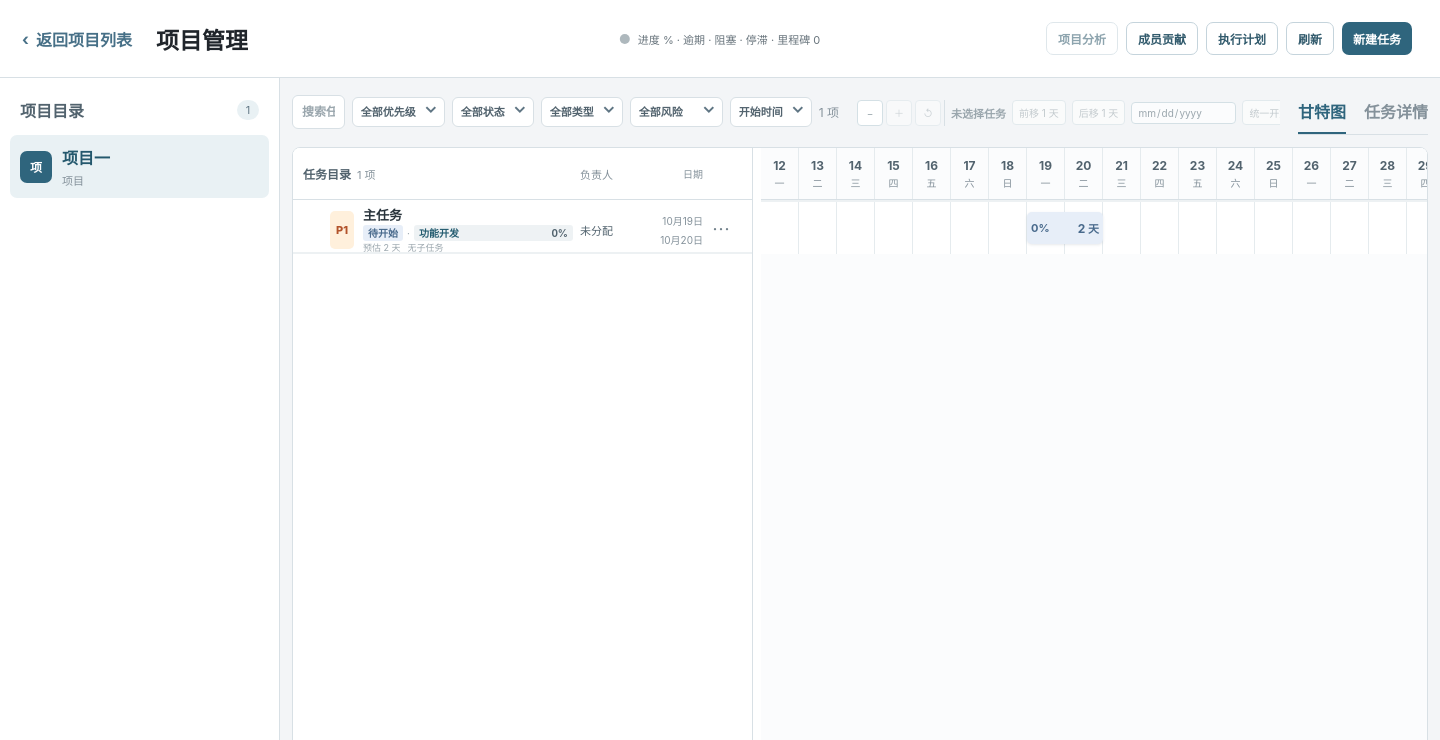
web app › opens the child-task form from a task row menu
The width and height of the screenshot is (1440, 740).
Check: the button named "任务操作 主任务" is shown, box [706, 216, 734, 244]
Right-click the button with aria-label "主任务 待开始 · feature · P1" at (467, 230), box [357, 204, 577, 257]
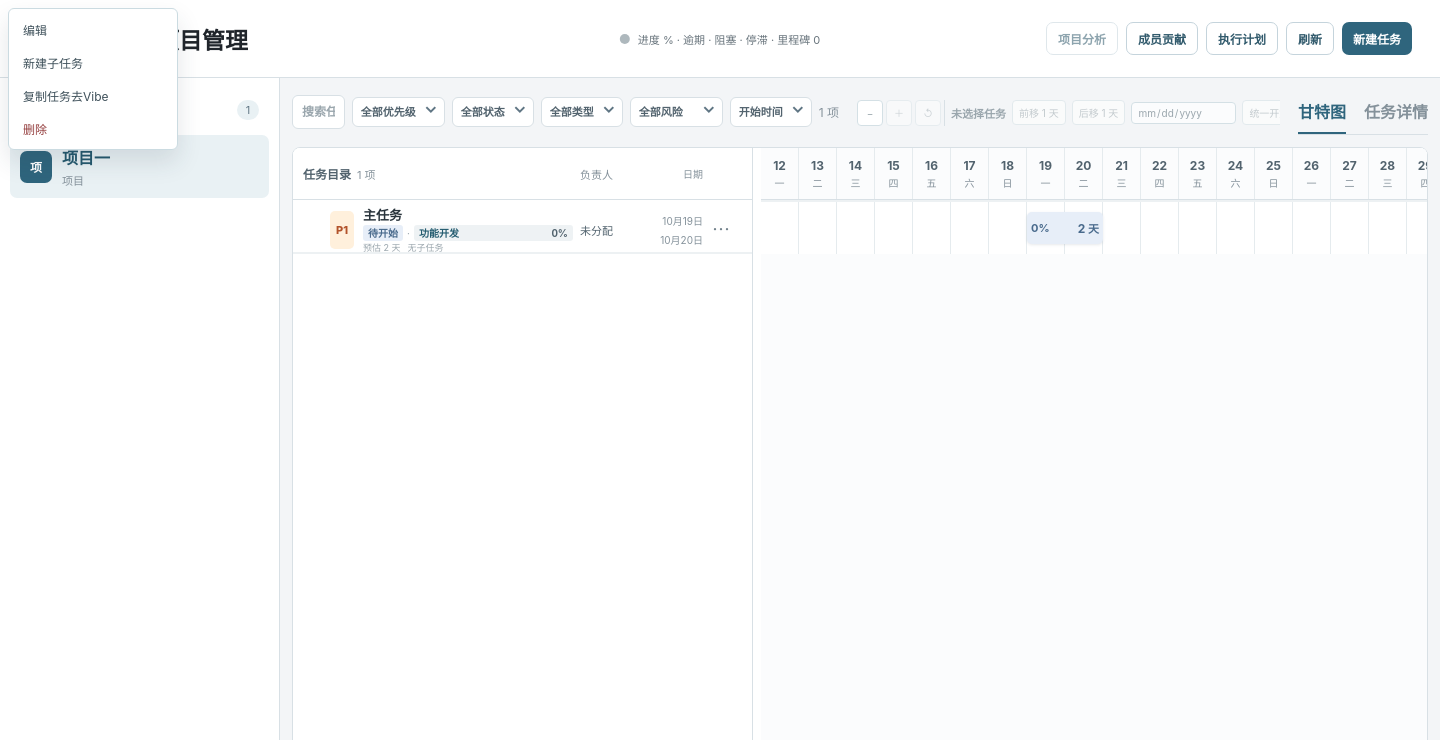
Click the menu item "新建子任务" at (93, 62), box [13, 46, 173, 79]
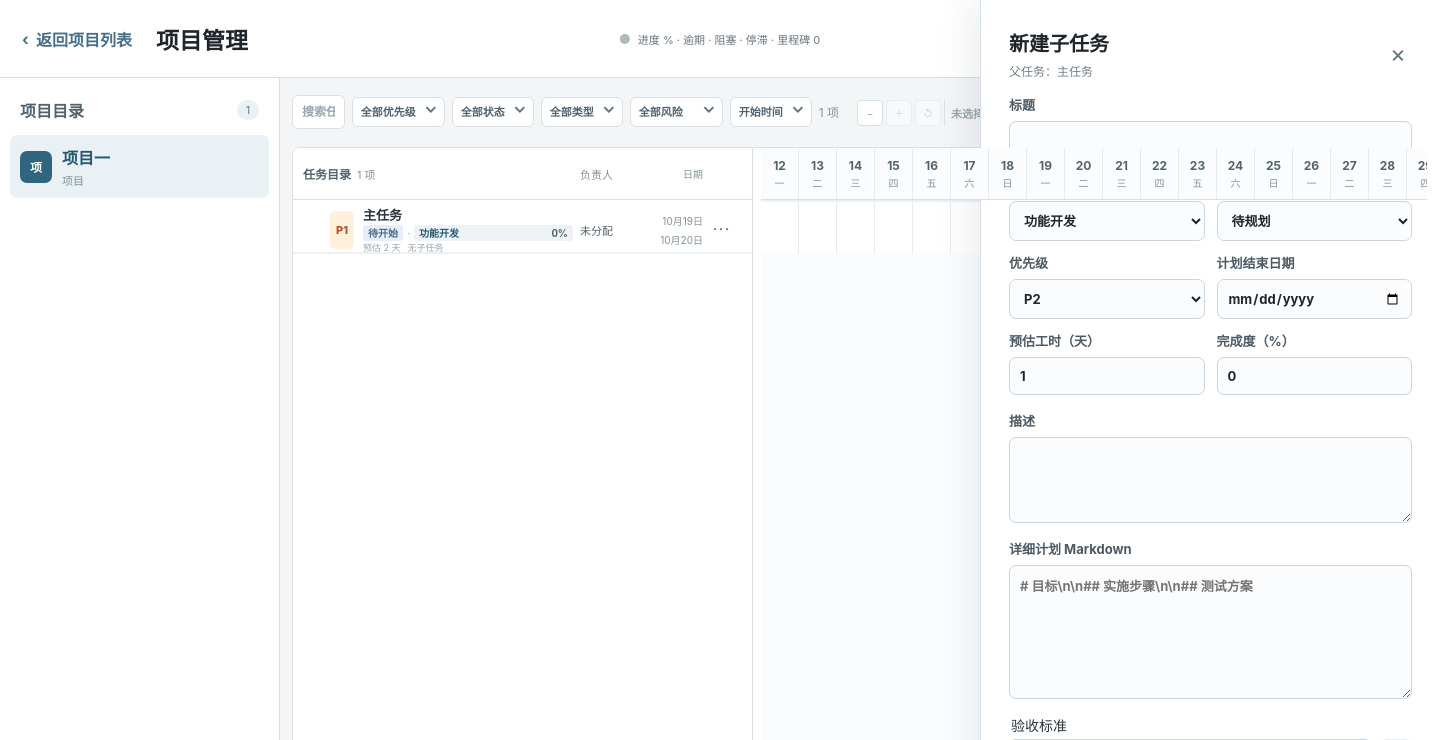
Check: the heading "新建子任务" is shown, box [1009, 28, 1109, 57]
Check: the text "父任务：主任务" is shown, box [1009, 64, 1093, 79]
